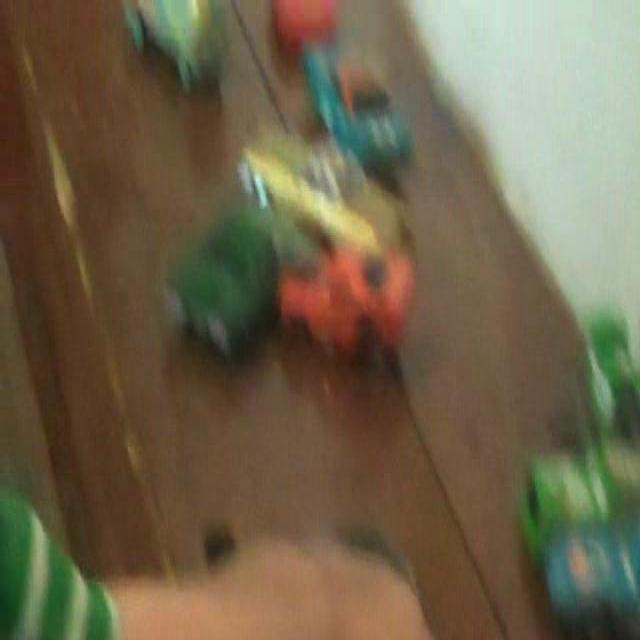other: (245, 121, 422, 359)
